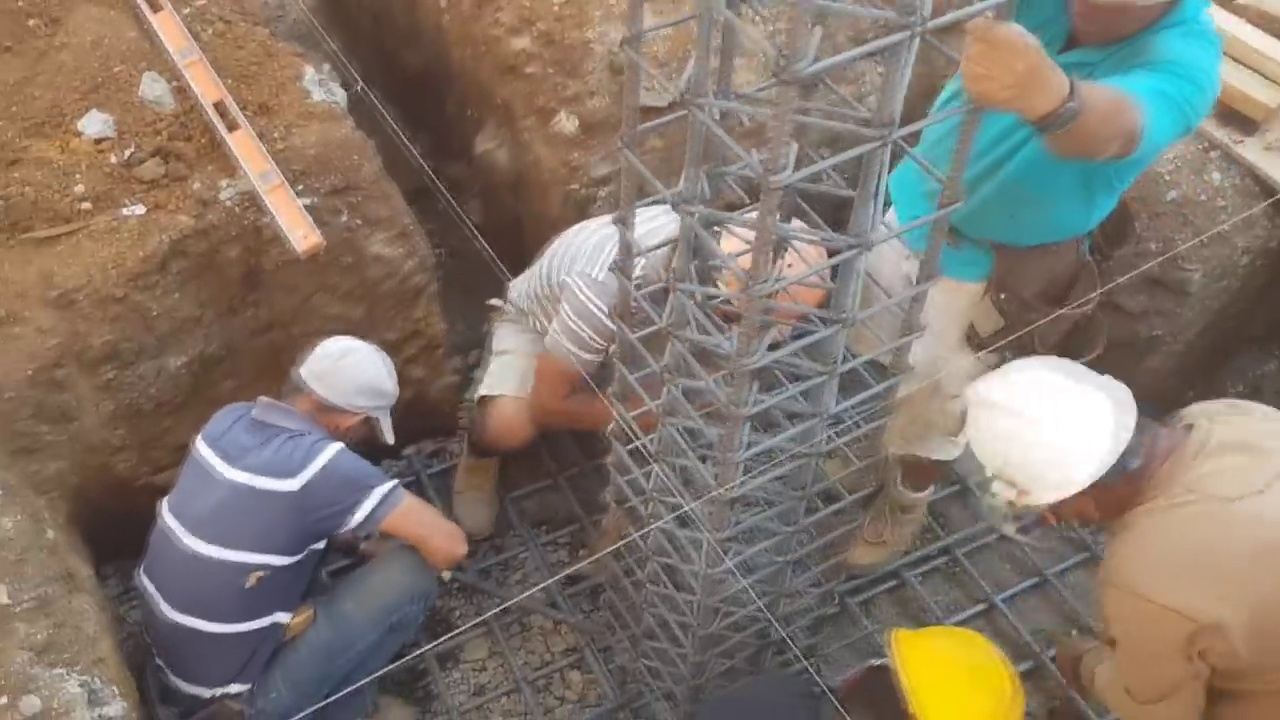helmet: (970, 360, 1140, 520), (702, 216, 857, 349), (873, 626, 1033, 711)
helmet-off: (285, 334, 398, 460)
helmet-on: (966, 365, 1196, 546), (676, 197, 853, 354), (810, 622, 1038, 717)
person: (852, 0, 1222, 575), (456, 183, 862, 540), (125, 308, 479, 709), (964, 363, 1275, 720), (660, 615, 1045, 717)
